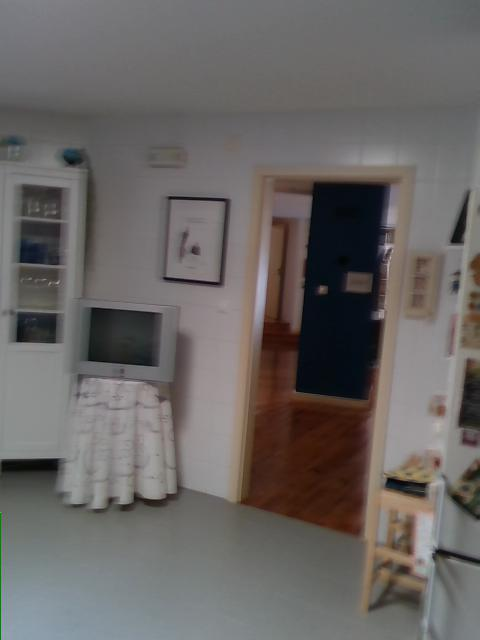open_door: (230, 159, 415, 538)
